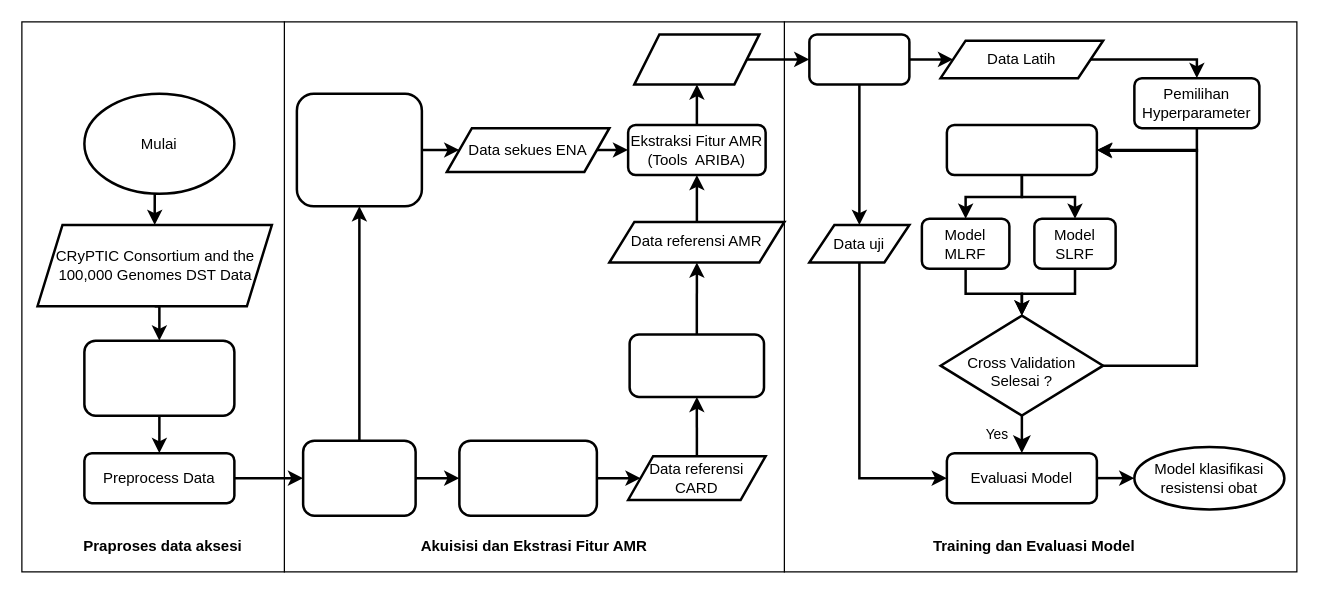
Image size: 1319x594. Some labels were removed from this diagram. The box of each missing label's shape, as (x1, y1, x2, y2) in pixels:
10 Fold Cross Validation: (945, 123, 1098, 176)
Akuisisi Data Referensi CARD dengan ARIBA: (458, 439, 598, 516)
Akuisisi Data Sekuens ENA (EnaBrowserTools) dengan protokol FASP: (295, 92, 422, 207)
Feature Engineering: (808, 32, 910, 85)
Fitur AMR Sekuens: (632, 32, 760, 85)
Instalasi dan konfigurasi protokol FASP: (301, 439, 416, 516)
Konversi .pdf data ke .csv dengan Tabula dan pdftk: (82, 339, 235, 416)
Preprocess data referensi CARD dengan ARIBA: (628, 332, 765, 398)
